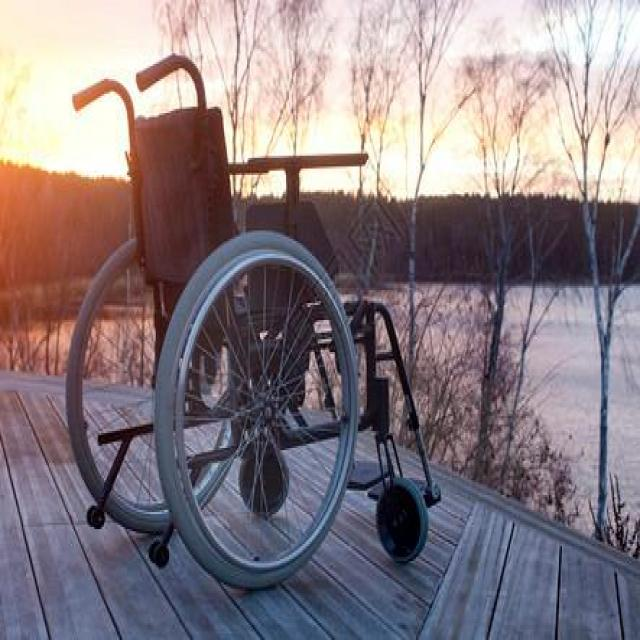wheelchairs: (47, 47, 449, 604)
